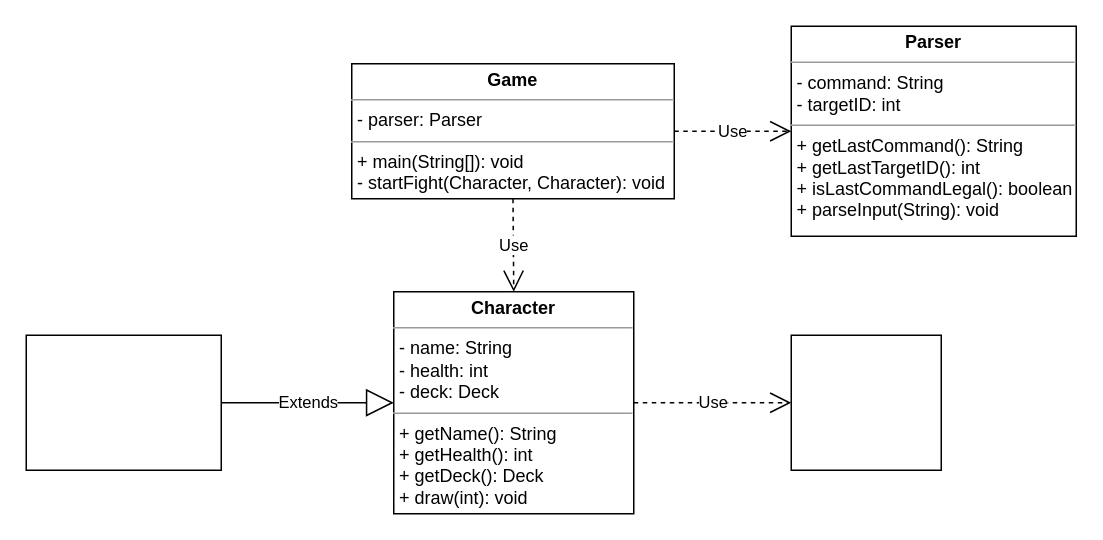
Some shapes in this 1103 by 540 pixel diagram are drawn without their labels. Each missing label, with the centre of its shape:
Deck + shuffle(): void: the point at 865,402
Player + waitForInput(): String: the point at 123,402
